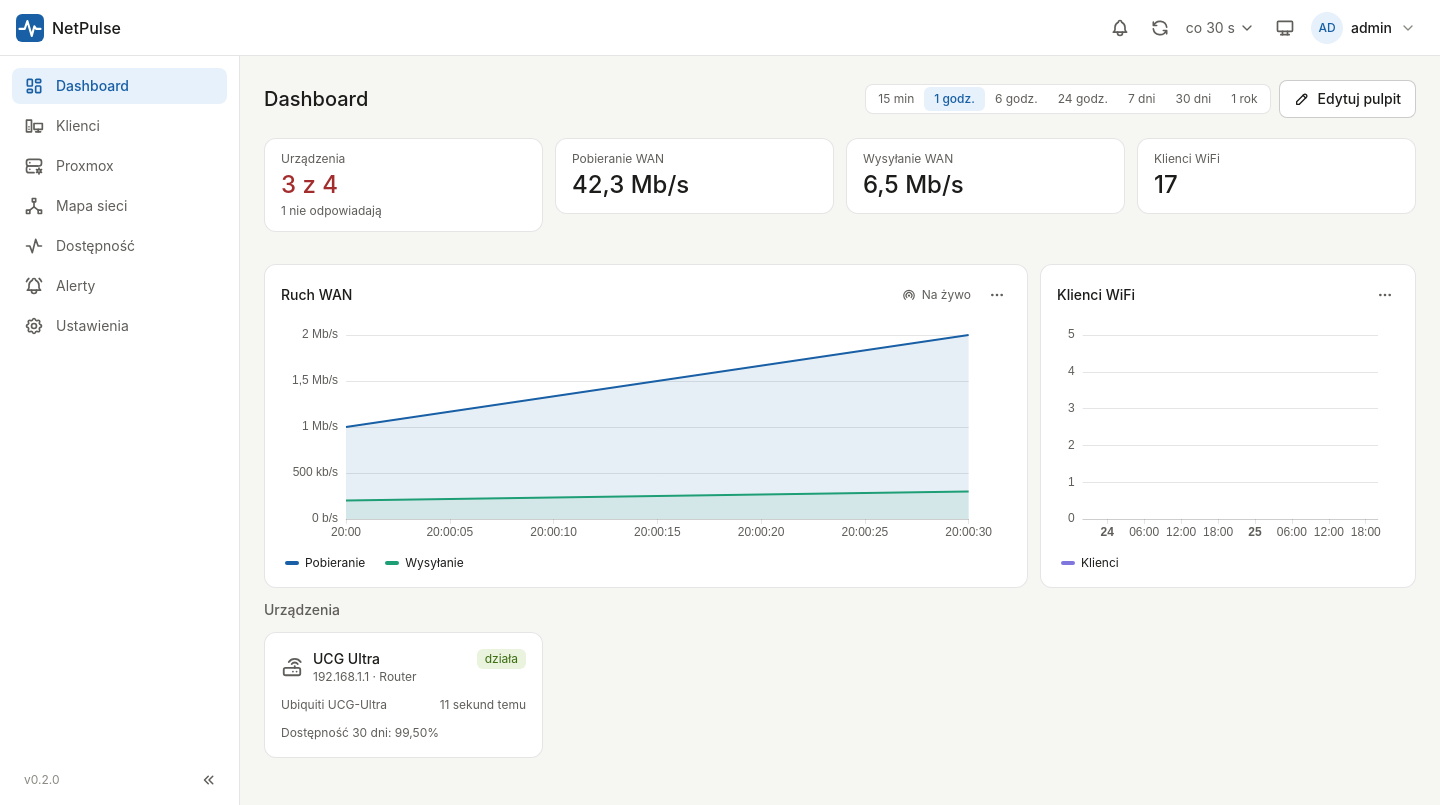
Test: edycja pulpitu › pokazuje błąd, gdy zapis się nie uda, i zostaje w trybie edycji
Click the button "Edytuj pulpit". click: (1347,99)
box: [1278,80,1416,118]
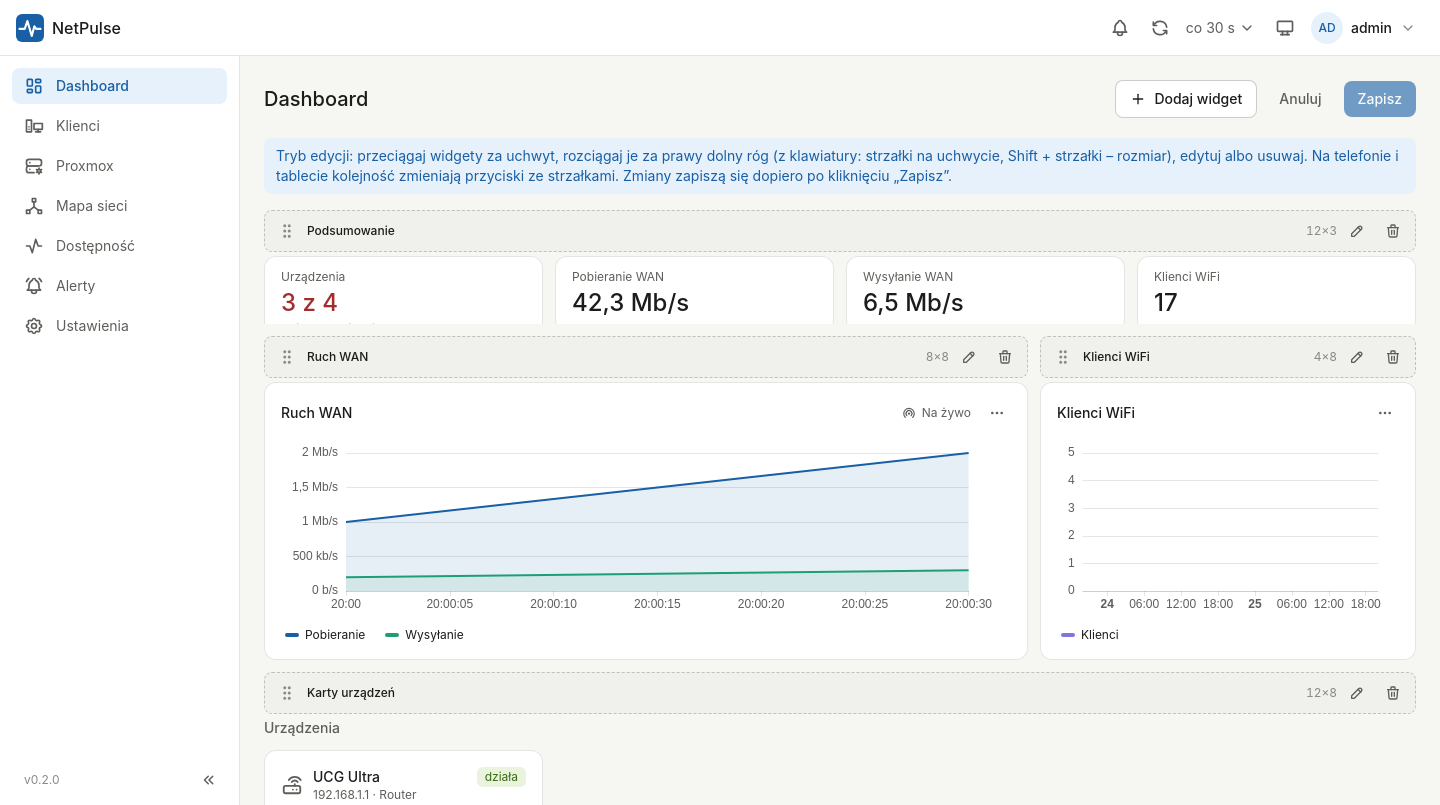
Click the button named "Usuń: Klienci WiFi". click: (1393,357)
box: [1377,341,1409,373]
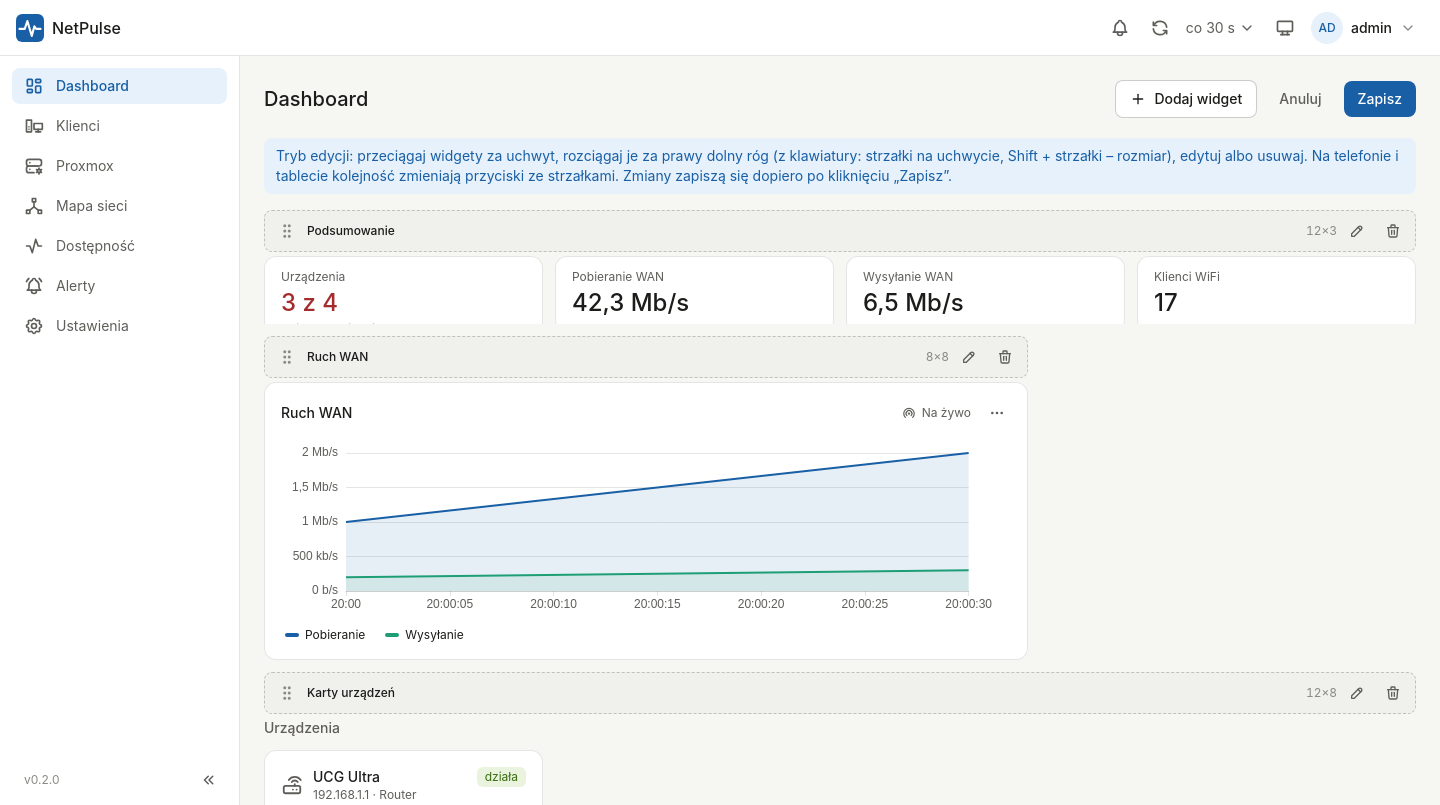
Click the button "Zapisz". click: (1380,99)
box: [1344,81,1416,117]
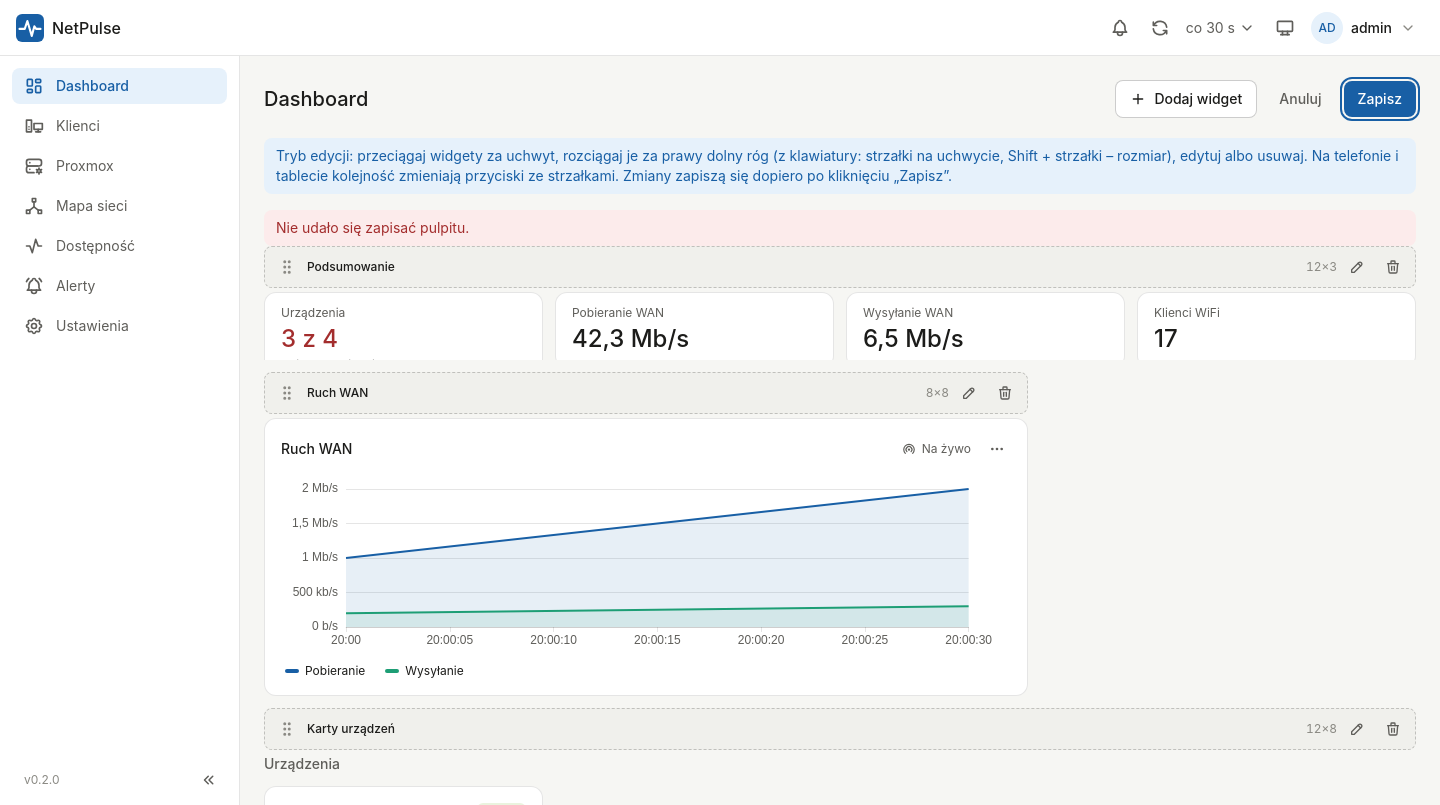
Expected: the button "Zapisz" is shown, [1344,81,1416,117]
Expected: the text "Nie udało się zapisać pulpitu." is shown, [264,210,1416,246]
